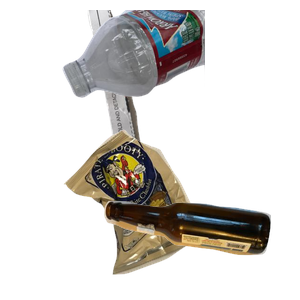glass: (101, 198, 300, 300)
paper: (85, 10, 224, 190)
plastic: (60, 10, 300, 100)
trash: (61, 127, 260, 300)
